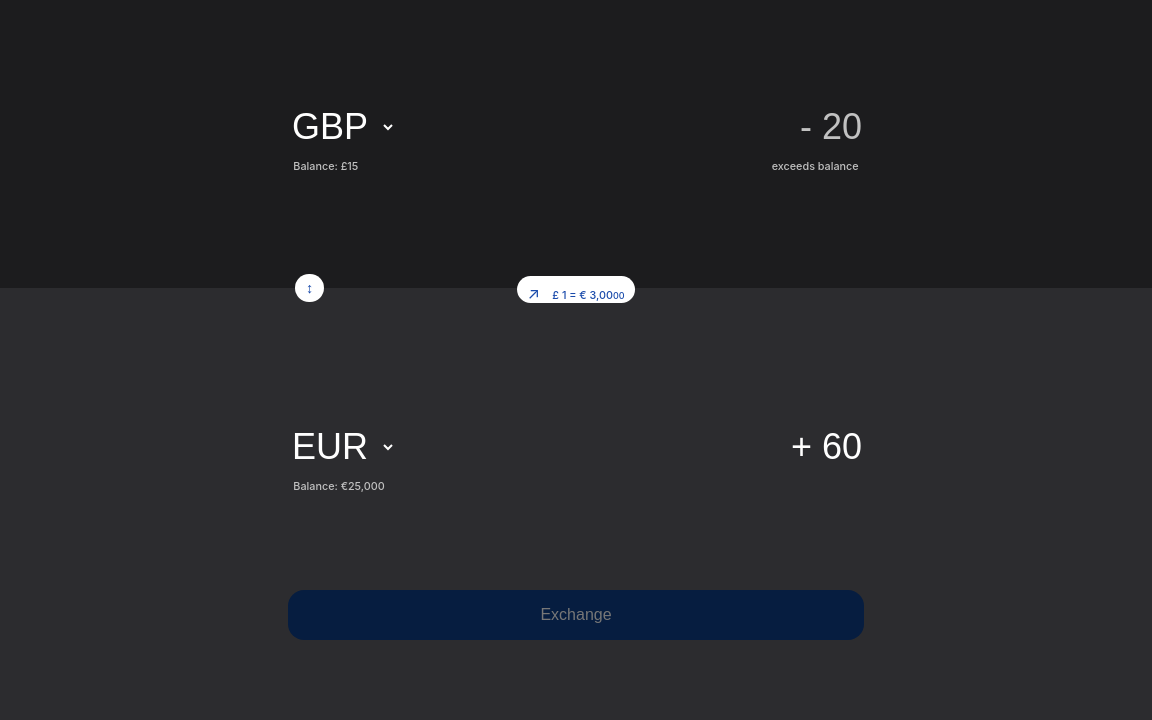
Test case: CurrencyExchangeApp › can exchange "amountTo" into new balance
The image size is (1152, 720).
expect the text with test id "balance-to" shows "25,000": met, box x1=341 y1=480 x2=385 y2=492
Replace the text in the field with test id "amount-from-el" with "1": (634, 127) x1=404 y1=105 x2=864 y2=149
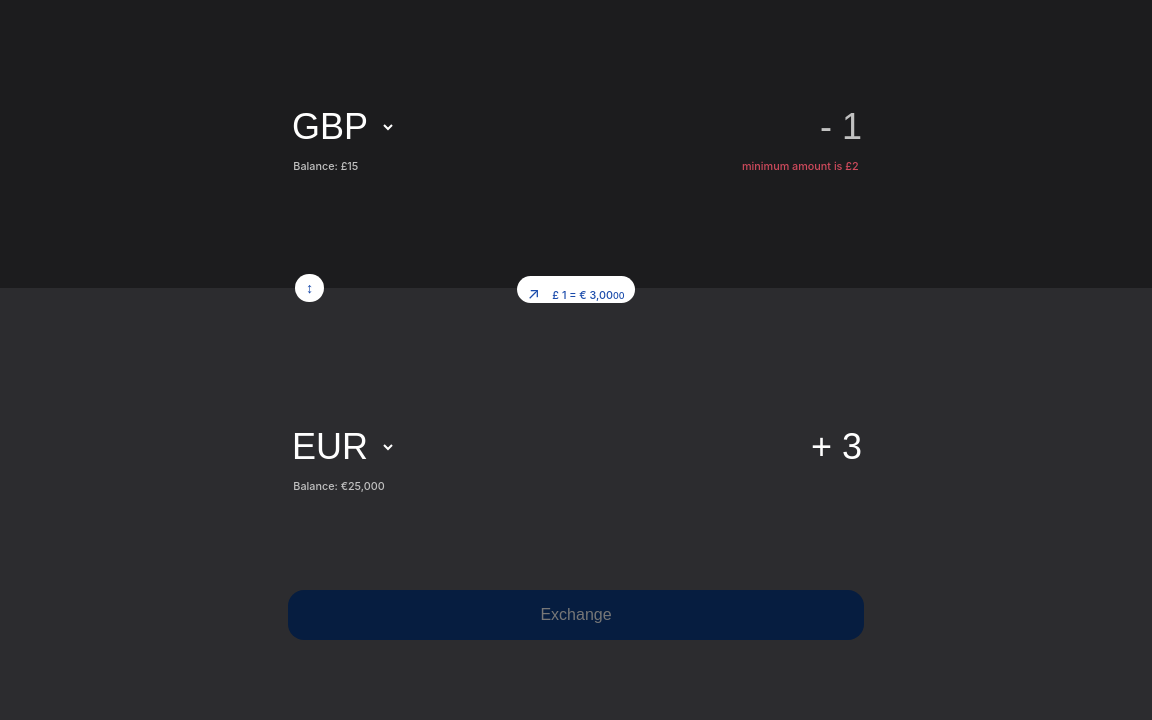
expect the button with test id "exchange-action" is disabled: met, box x1=288 y1=590 x2=864 y2=640
Replace the text in the field with test id "amount-from-el" with "20": (634, 127) x1=404 y1=105 x2=864 y2=149
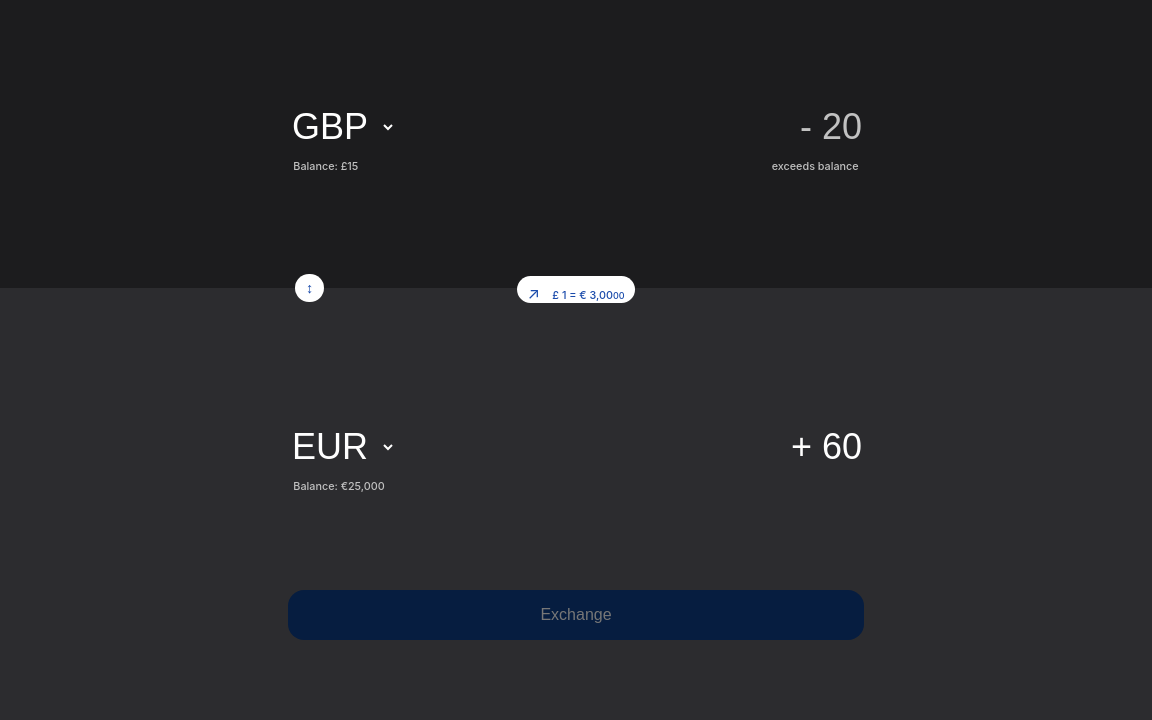
expect the button with test id "exchange-action" is disabled: met, box x1=288 y1=590 x2=864 y2=640
Replace the text in the field with test id "amount-from-el" with "10": (634, 127) x1=404 y1=105 x2=864 y2=149
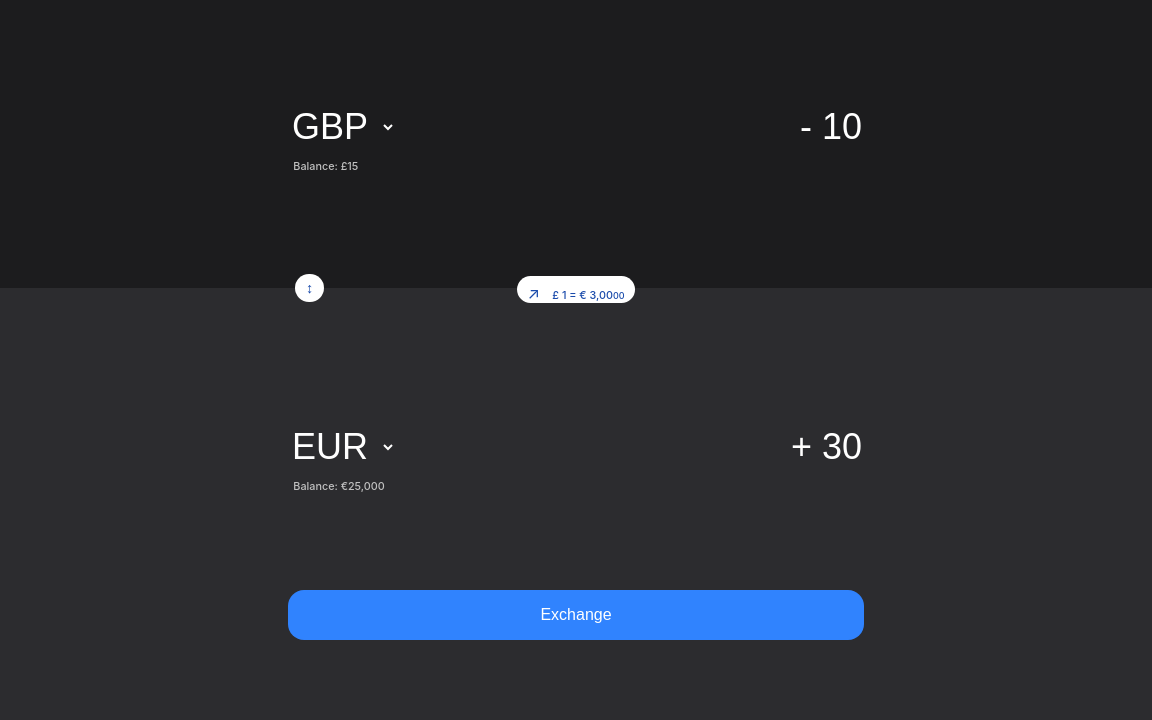
expect the button with test id "exchange-action" is enabled: met
Click the button with test id "exchange-action": click(576, 615) x1=288 y1=590 x2=864 y2=640
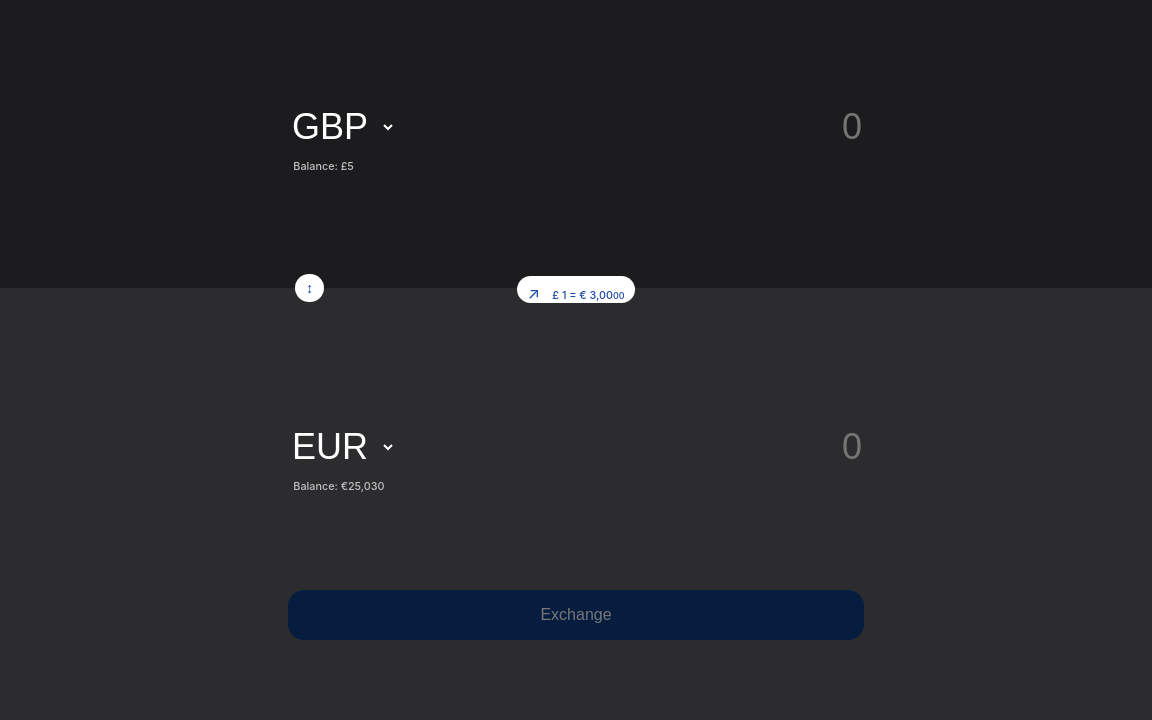
expect the text with test id "balance-to" shows "25,030": met, box x1=341 y1=480 x2=384 y2=492
